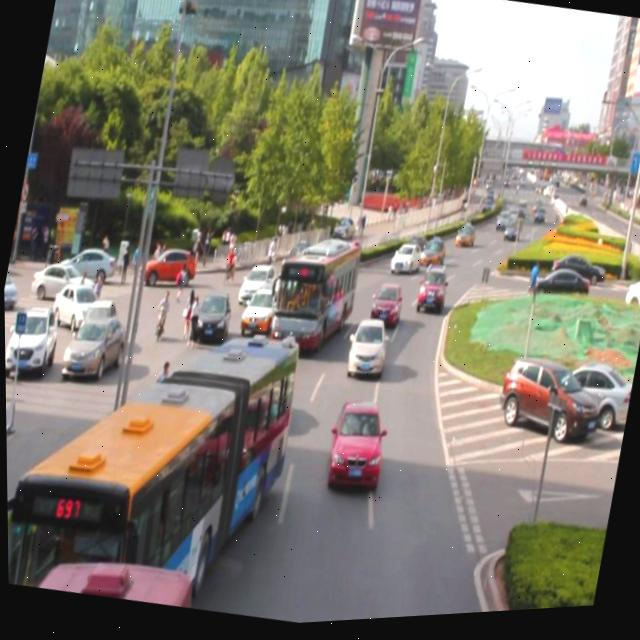car: (321, 399, 387, 496), (226, 314, 287, 390), (343, 317, 391, 386), (188, 281, 236, 347), (238, 285, 288, 339), (235, 256, 280, 308), (271, 255, 314, 309), (413, 265, 449, 319), (367, 284, 404, 334), (414, 237, 447, 278), (387, 242, 420, 282), (398, 235, 427, 266)
van: (4, 298, 301, 620), (36, 540, 194, 617), (269, 233, 361, 359)
